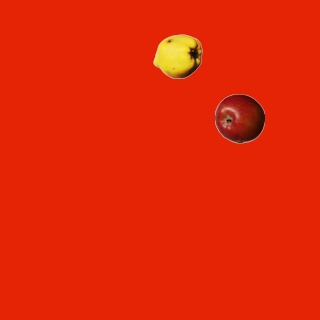Apple Braeburn: (214, 93, 264, 143)
Quince: (152, 31, 202, 81)
